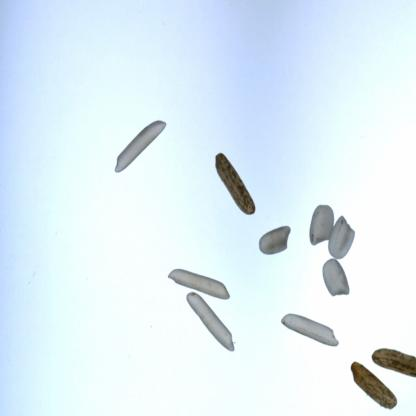Full: (96, 103, 164, 188), (198, 144, 260, 221), (180, 286, 236, 364), (342, 360, 402, 410), (273, 303, 337, 345), (158, 266, 232, 300), (353, 338, 416, 376), (250, 216, 296, 259), (314, 254, 353, 298), (323, 208, 356, 258), (304, 198, 333, 247)
